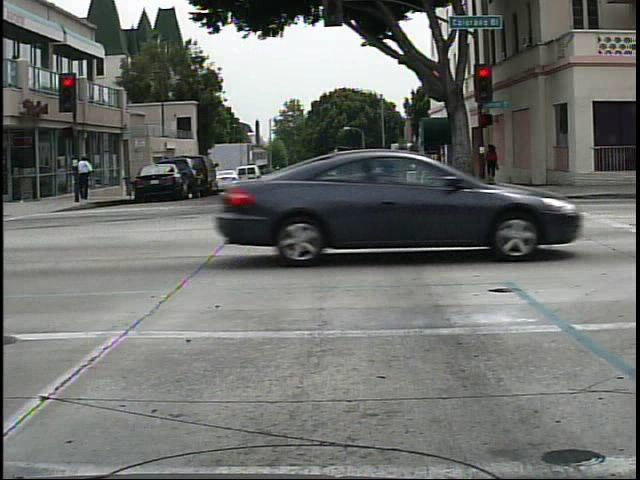person: (486, 139, 507, 192), (78, 149, 96, 201)
